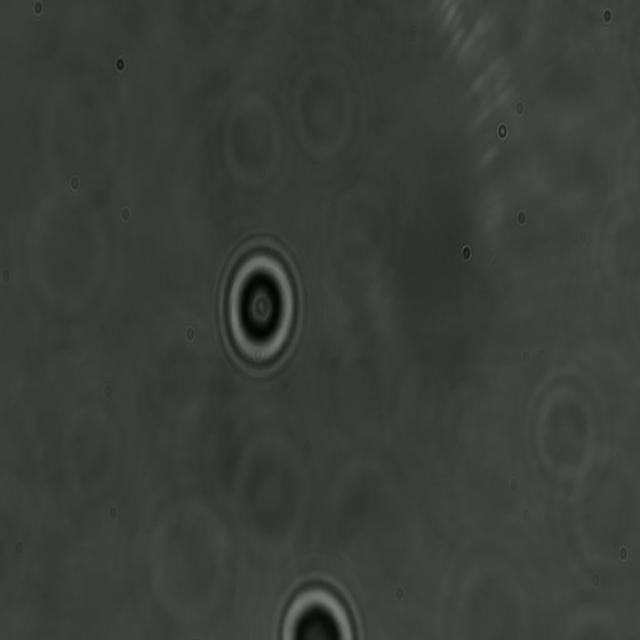LCELL: (213, 231, 305, 382)
